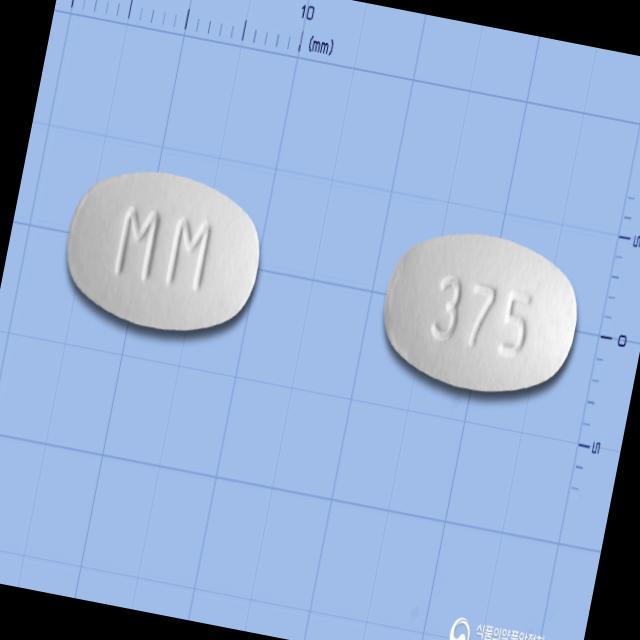Amoclan - Myungmoon: (51, 153, 276, 351), (372, 216, 592, 406)
